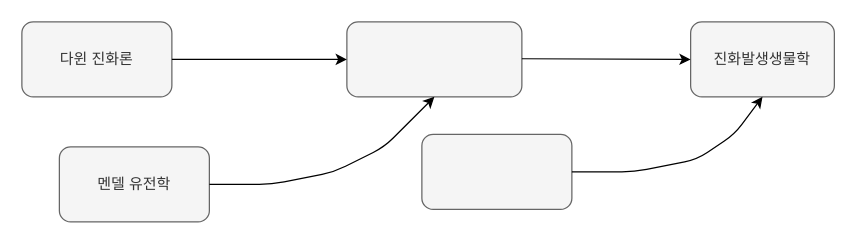
The diagram is 856 pixels wide and 244 high, and some of its shapes have lost their labels. Here are the shapes that lost their labels. From the top down, the centre of each, then its label:
At pixel 434 59: "진화생물학의 현대적 종합".
At pixel 496 171: "발생생물학".
